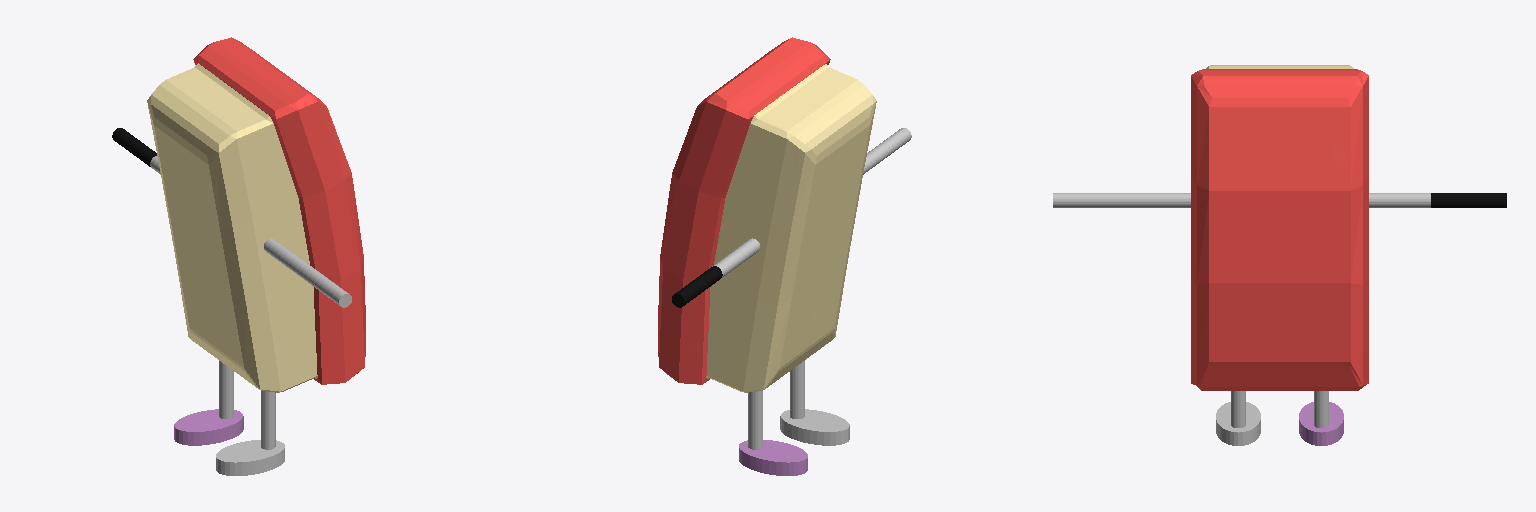
3 views of the same model, side by side, from view 1: azimuth 30°, elevation 25°; view 2: azimuth 150°, elevation 25°; view 3: azimuth 270°, elevation 25° (orthographic).
Visible parts, largest first — view 1: Cube, Cylinder.006, Cylinder.007, Cylinder.005, Cylinder.001, Cylinder.004, Cylinder.003, Cylinder; view 2: Cube, Cylinder.007, Cylinder.006, Cylinder.004, Cylinder.003, Cylinder.005, Cylinder.001, Cylinder.002; view 3: Cube, Cylinder.006, Cylinder.007, Cylinder.001, Cylinder.003, Cylinder, Cylinder.002, Cylinder.004, Cylinder.005.
Part boxes in pixels (bbox=[...]): Cube: bbox=[147, 37, 365, 392]; Cylinder.006: bbox=[174, 409, 243, 445]; Cylinder.007: bbox=[216, 440, 284, 475]; Cylinder.005: bbox=[261, 391, 275, 449]; Cylinder.001: bbox=[301, 266, 351, 307]; Cylinder.004: bbox=[219, 361, 233, 418]; Cylinder.003: bbox=[112, 128, 156, 166]; Cylinder: bbox=[264, 238, 311, 277]; Cube: bbox=[658, 37, 876, 392]; Cylinder.007: bbox=[780, 409, 849, 445]; Cylinder.006: bbox=[739, 440, 807, 475]; Cylinder.004: bbox=[748, 391, 762, 449]; Cylinder.003: bbox=[672, 266, 722, 307]; Cylinder.005: bbox=[790, 361, 804, 418]; Cylinder.001: bbox=[867, 128, 911, 166]; Cylinder.002: bbox=[712, 238, 759, 277]; Cube: bbox=[1191, 65, 1368, 390]; Cylinder.006: bbox=[1299, 402, 1343, 445]; Cylinder.007: bbox=[1216, 402, 1260, 445]; Cylinder.001: bbox=[1053, 193, 1128, 207]; Cylinder.003: bbox=[1431, 193, 1506, 207]; Cylinder: bbox=[1129, 193, 1190, 207]; Cylinder.002: bbox=[1369, 193, 1430, 207]; Cylinder.004: bbox=[1314, 391, 1328, 427]; Cylinder.005: bbox=[1231, 391, 1245, 427].
Size of the model in its own units: 2.29 by 5.46 by 6.
Materials: 9 (3 with a texture image).